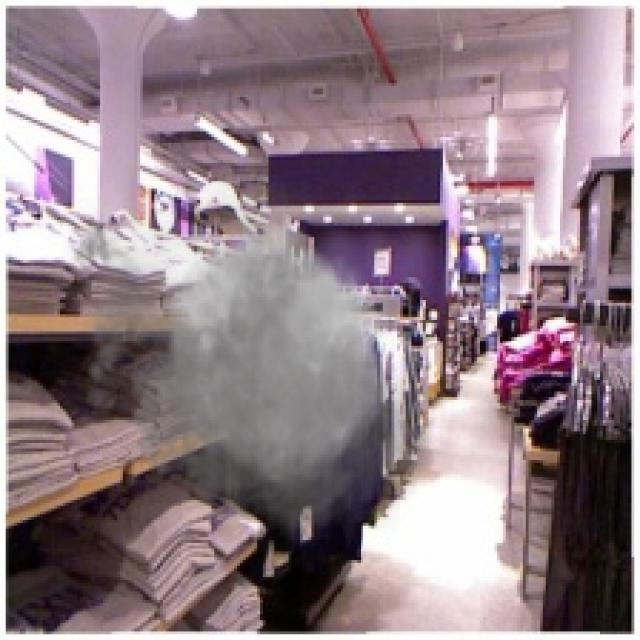smoke: (60, 151, 446, 560)
